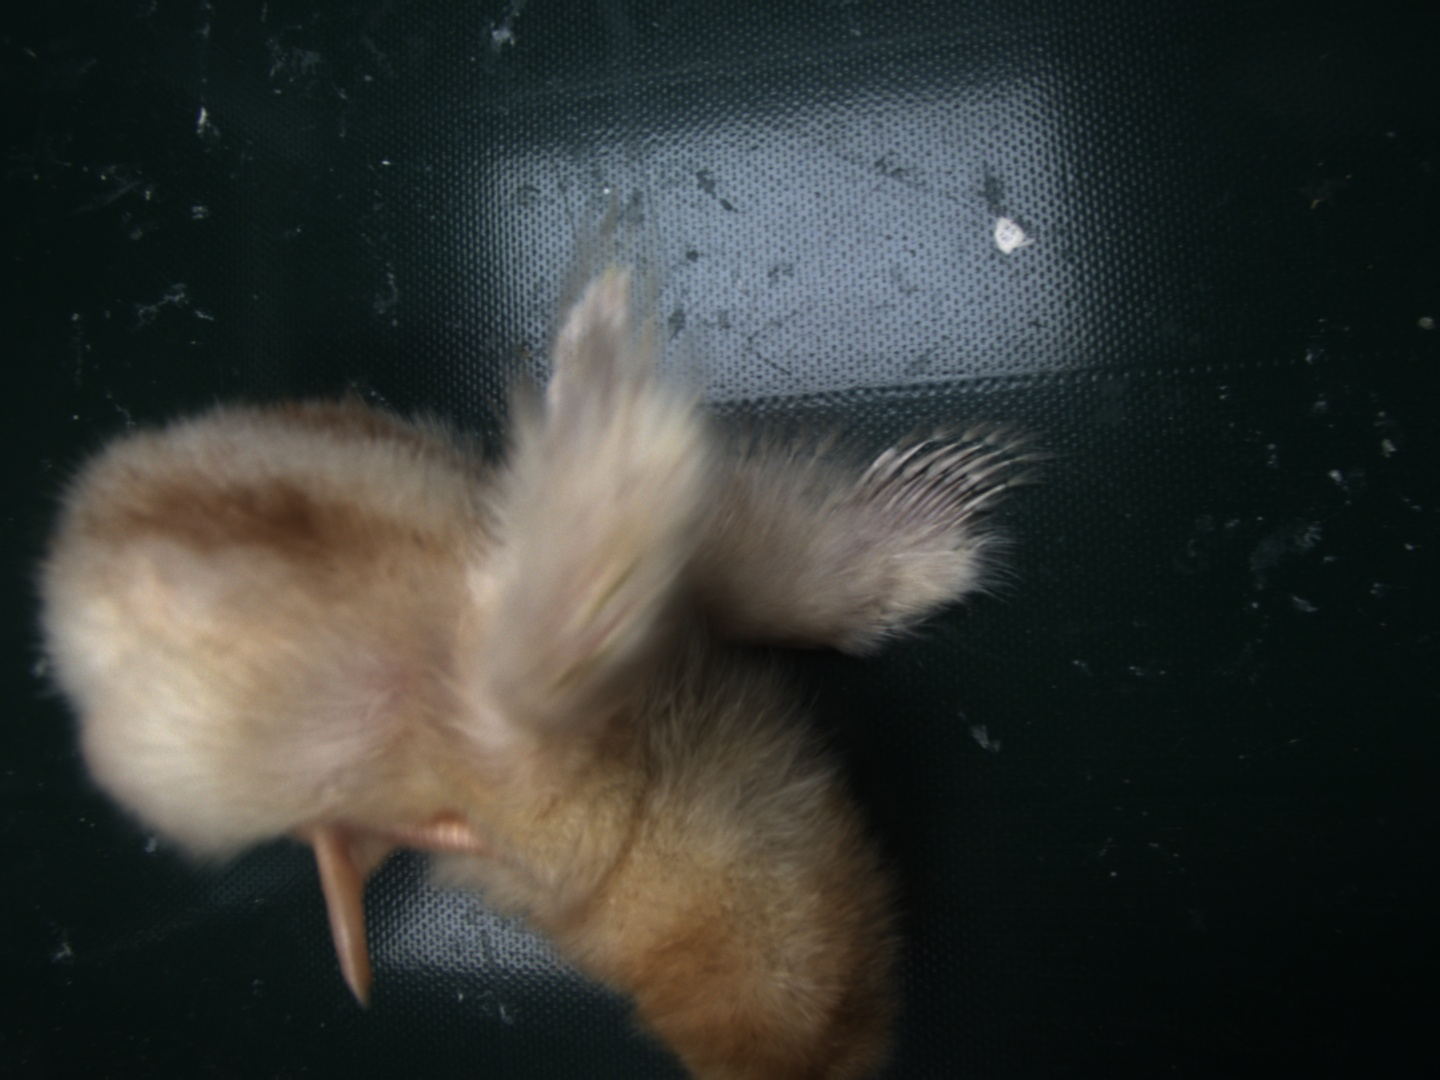female: (850, 423, 1013, 540)
